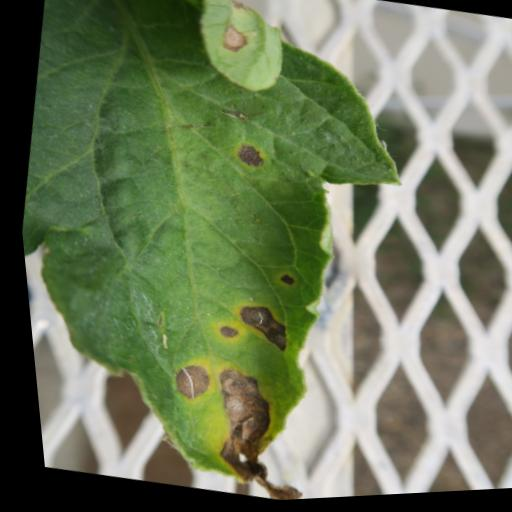Early Blight: (0, 0, 455, 512)
